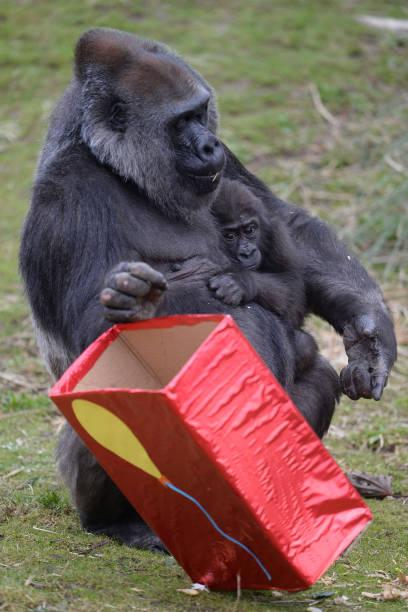gorille_Autres: (14, 0, 386, 324)
